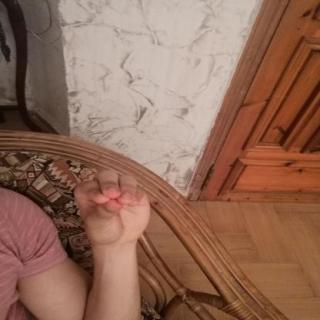HA: (60, 162, 166, 252)
